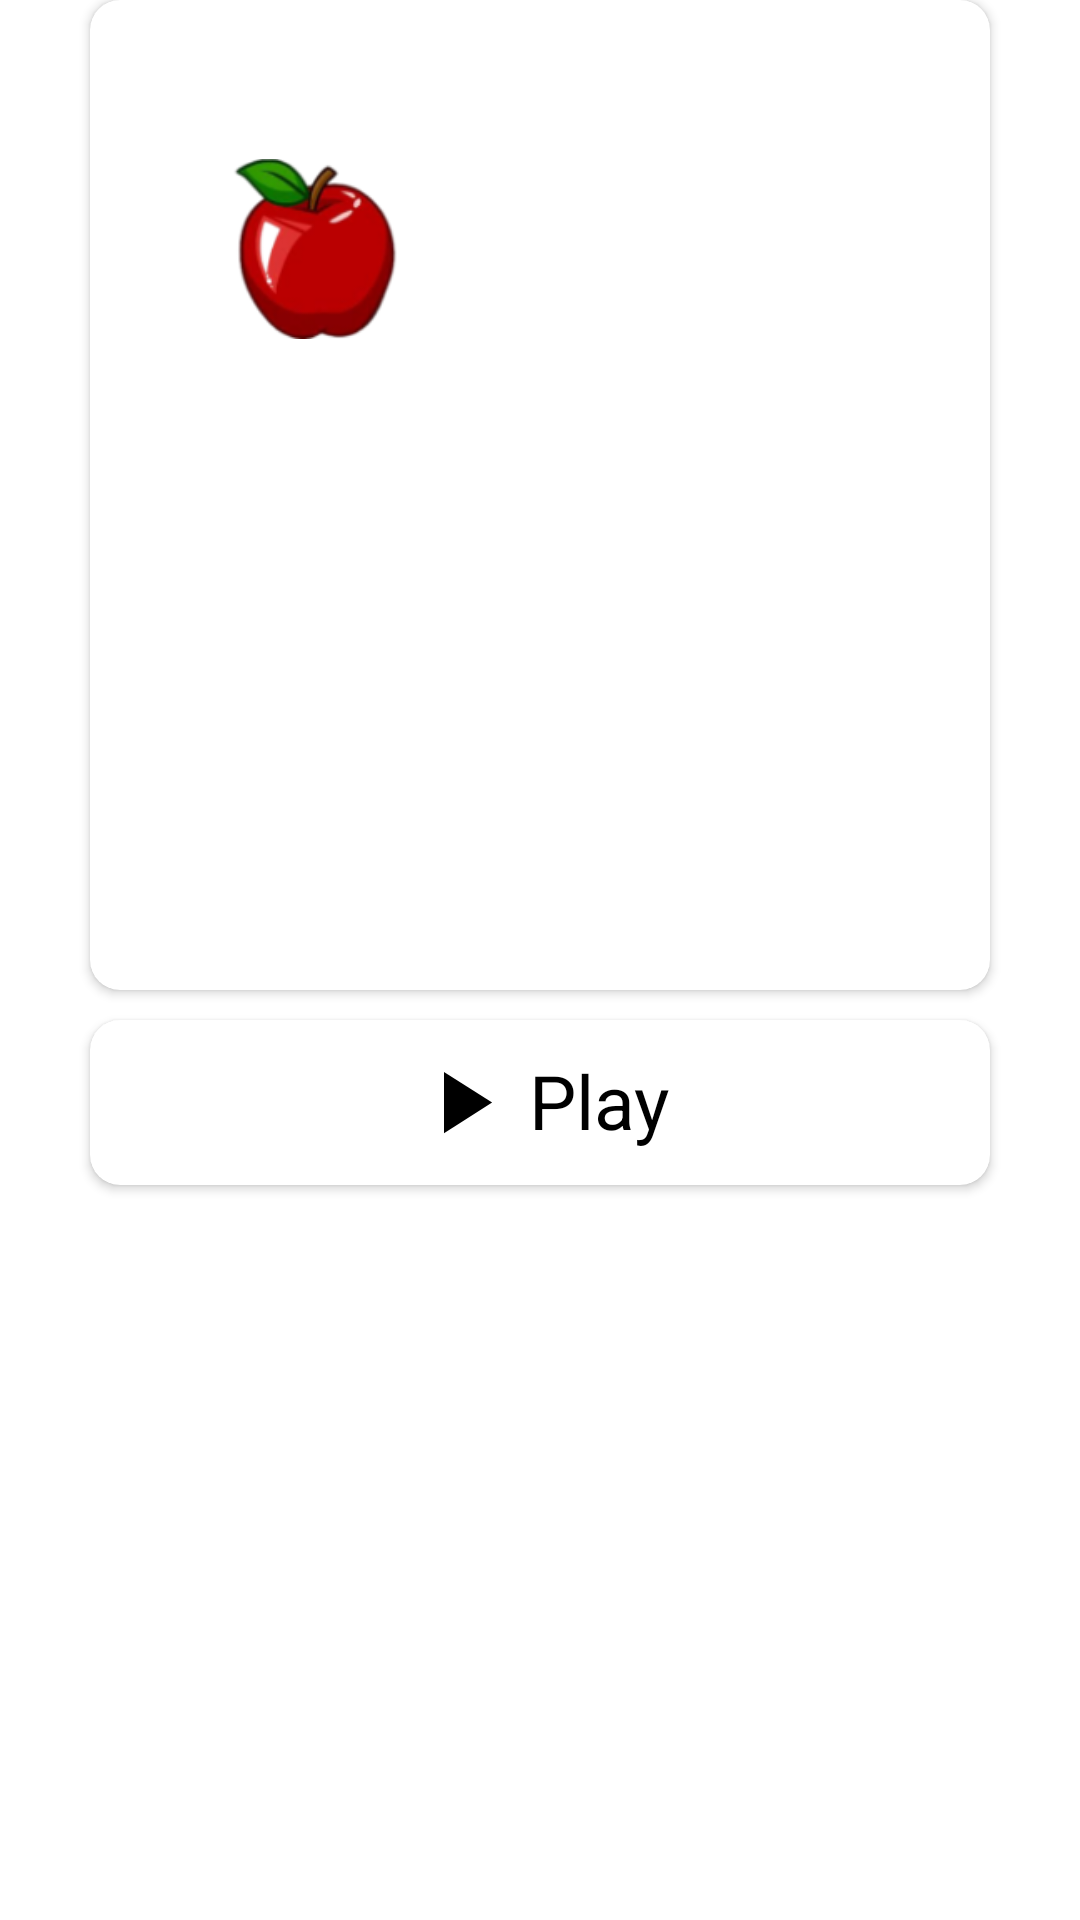

Icons on this 1080 x 1920 Android screen, each with its box as (x1, y1, x2, y2):
apple: (235, 159, 396, 339)
